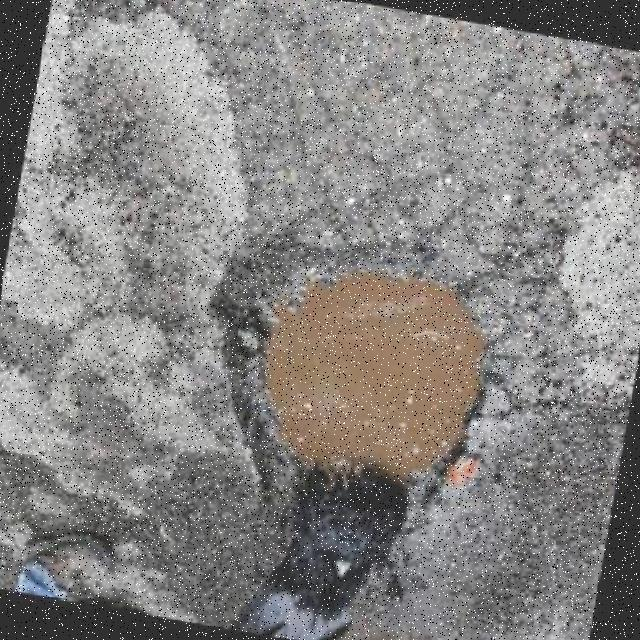Pothole: (213, 243, 485, 505)
